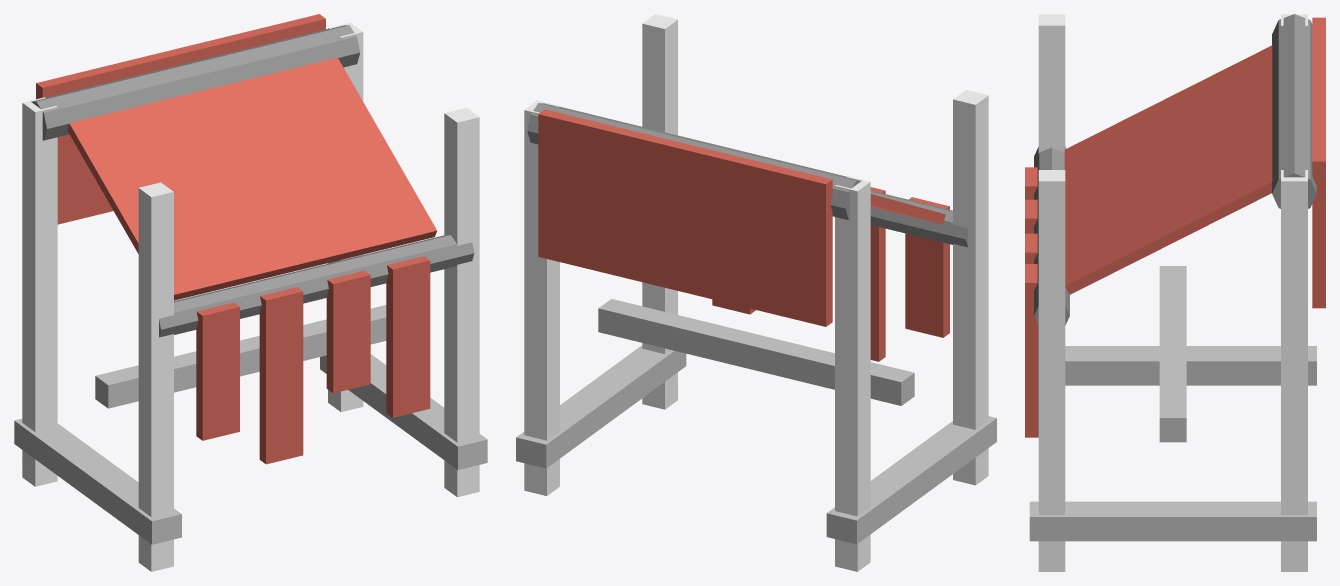
The model's file is vfem2_tailoring_loom.obj.
3 renders of one model, left to right at view 1: azimuth 30°, elevation 25°; view 2: azimuth 150°, elevation 25°; view 3: azimuth 270°, elevation 25°, orthographic. The views are drawn at different scales.
Visible parts, largest first — view 1: vfem2_tailoring_loom; view 2: vfem2_tailoring_loom; view 3: vfem2_tailoring_loom.
Boxes of the visible parts, x1,y1,x2,y2 form: vfem2_tailoring_loom: [14, 14, 487, 571]; vfem2_tailoring_loom: [516, 14, 996, 571]; vfem2_tailoring_loom: [1025, 14, 1325, 571].
Bounding box in the file's own units: 0.9 × 0.98 × 0.67.
